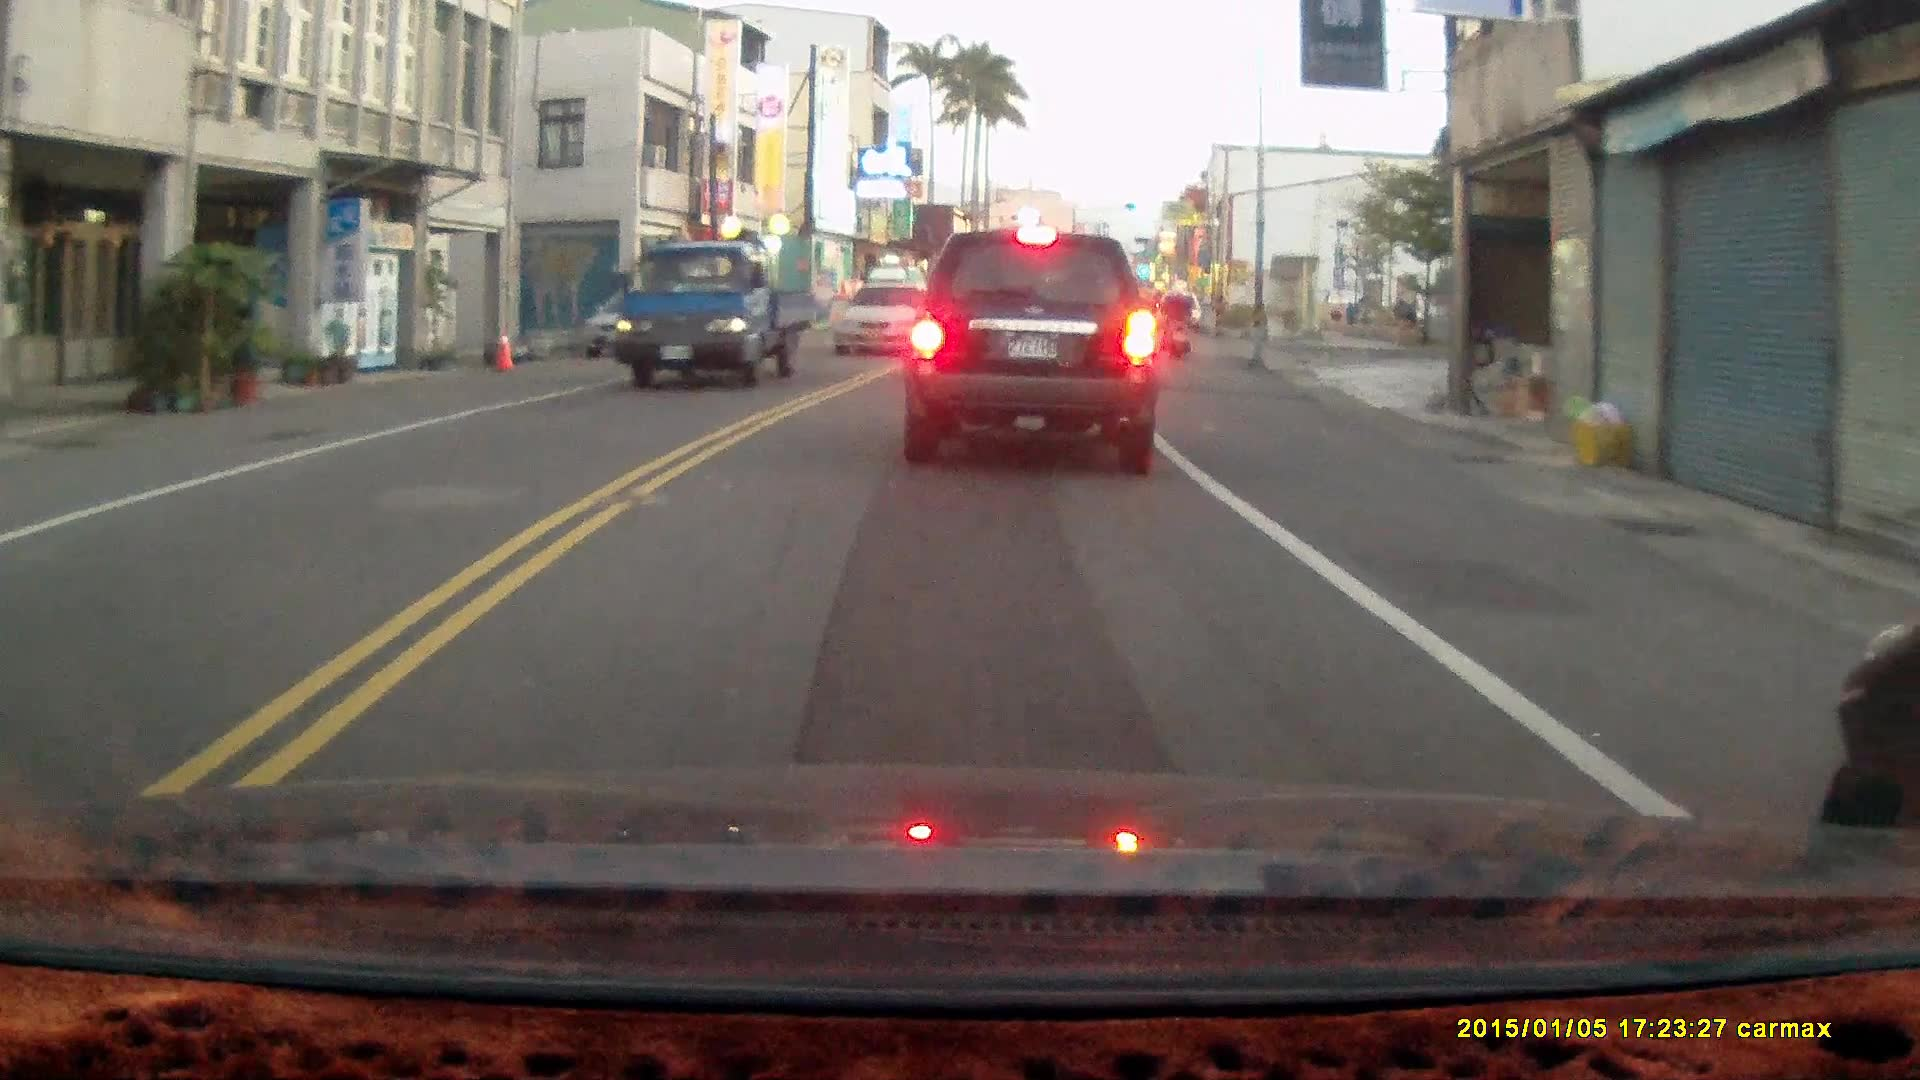rider: (1160, 281, 1191, 363)
vehicle: (903, 230, 1165, 476), (604, 236, 818, 388), (578, 287, 718, 360), (836, 282, 943, 360)
